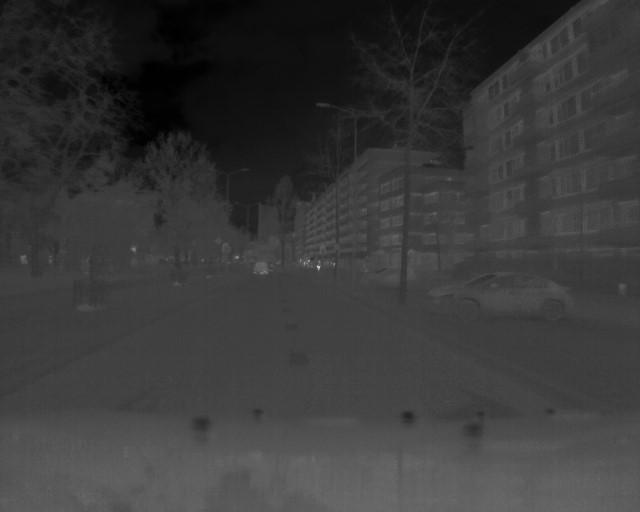car: (424, 271, 580, 324)
